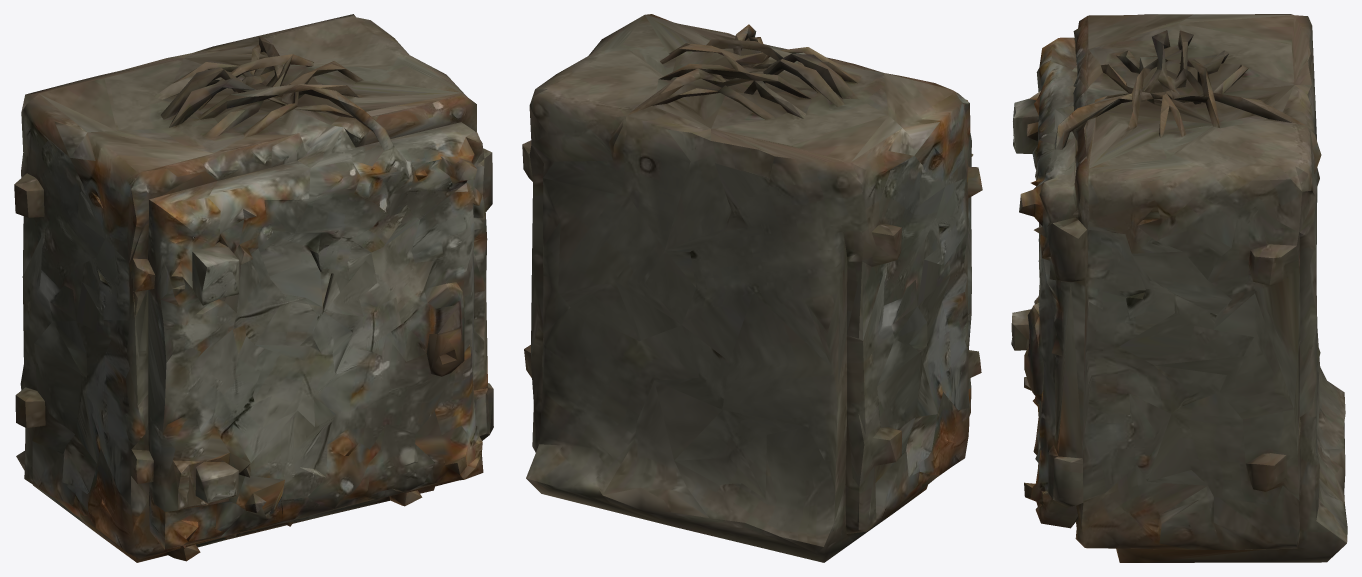
Rendered from decor_box_idle.glb.
3 renders of one model, left to right at view 1: azimuth 30°, elevation 25°; view 2: azimuth 150°, elevation 25°; view 3: azimuth 270°, elevation 25°, orthographic. The views are drawn at different scales.
Visible parts, largest first — view 1: tripo_node_837fea4d-8b05-42ab-8449-9cc1804db686; view 2: tripo_node_837fea4d-8b05-42ab-8449-9cc1804db686; view 3: tripo_node_837fea4d-8b05-42ab-8449-9cc1804db686.
Boxes of the visible parts, x1,y1,x2,y2 form: tripo_node_837fea4d-8b05-42ab-8449-9cc1804db686: (14,14,493,562); tripo_node_837fea4d-8b05-42ab-8449-9cc1804db686: (522,14,982,562); tripo_node_837fea4d-8b05-42ab-8449-9cc1804db686: (1011,14,1347,562).
Size of the model in its own units: 0.4599 by 0.5008 by 0.3499.
Materials: 1 (1 with a texture image).
